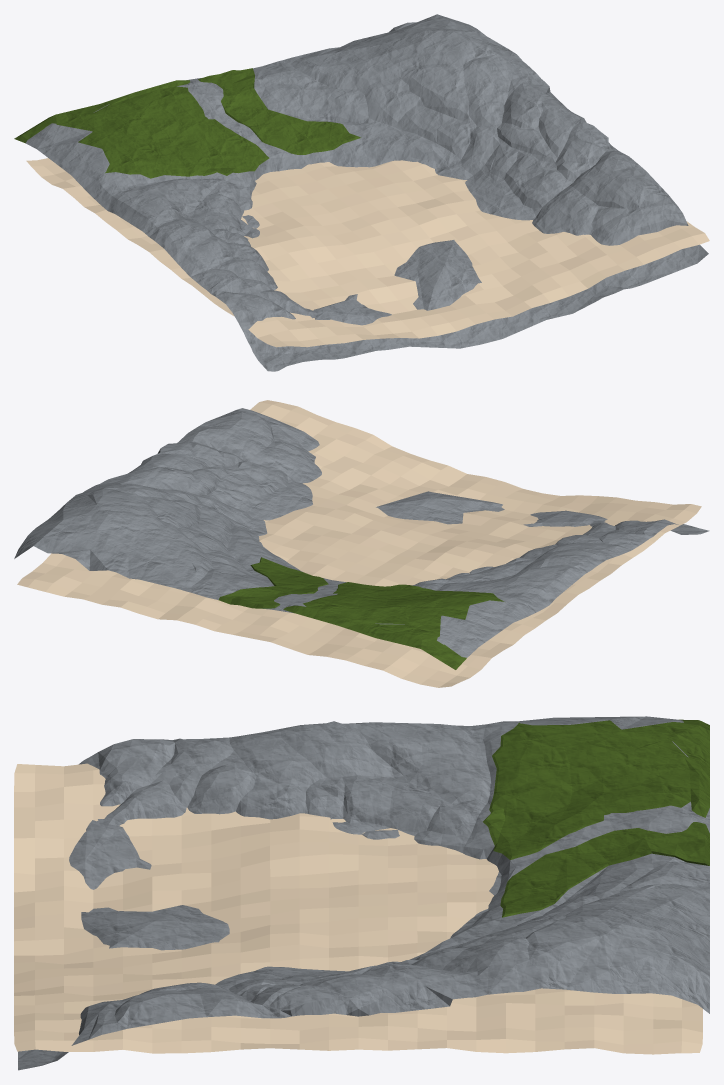
The model's file is baseScene.gltf.
3 views of the same model, one above another, from view 1: azimuth 30°, elevation 25°; view 2: azimuth 150°, elevation 25°; view 3: azimuth 270°, elevation 25° (orthographic). The views are drawn at different scales.
Parts seen in each view (by area): view 1: Terrain - processed, sandSilt, Terrain - processed.001; view 2: sandSilt, Terrain - processed, Terrain - processed.001; view 3: sandSilt, Terrain - processed, Terrain - processed.001.
Part boxes in pixels (x1,y1,x2,y2): Terrain - processed: (25,14,708,371); sandSilt: (26,158,709,347); Terrain - processed.001: (14,68,360,178); sandSilt: (17,400,701,687); Terrain - processed: (14,408,709,657); Terrain - processed.001: (218,557,504,669); sandSilt: (14,763,702,1054); Terrain - processed: (18,716,709,1070); Terrain - processed.001: (483,719,709,917).
Size of the model in its own units: 79.07 by 19.02 by 78.74.
3 materials, 2 textured.
